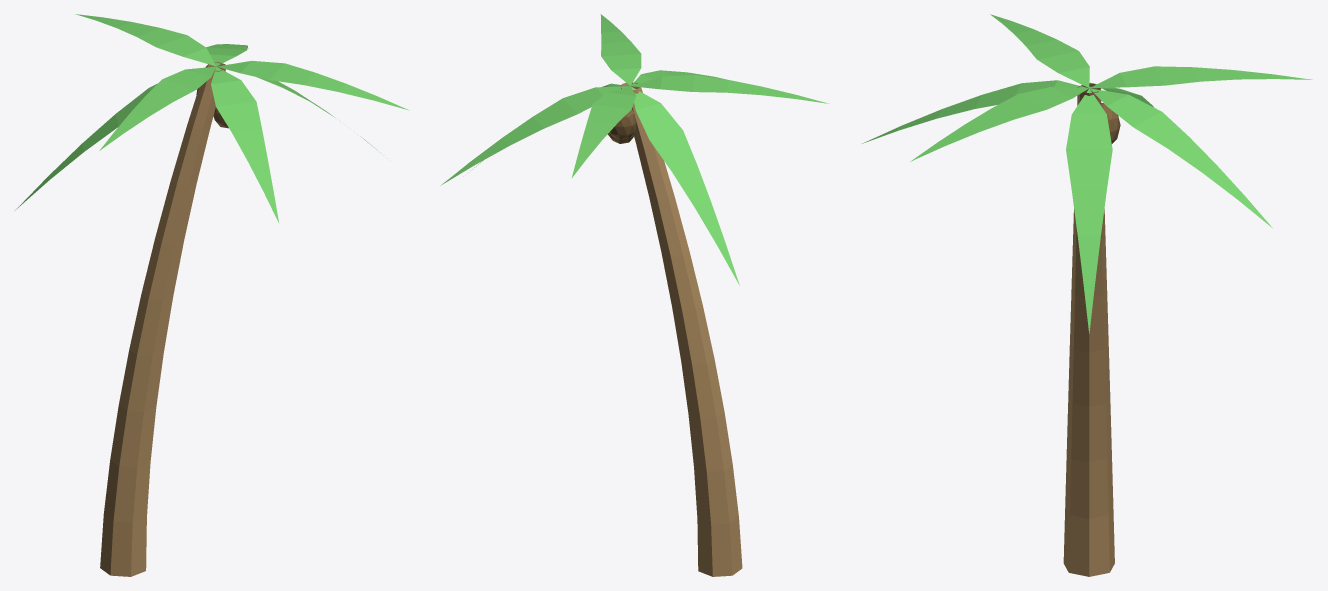
Rendered from CoconutTree.fbx.
The picture shows the model from 3 angles, left to right: view 1: azimuth 30°, elevation 25°; view 2: azimuth 150°, elevation 25°; view 3: azimuth 270°, elevation 25°; orthographic projection. The views are drawn at different scales.
Visible parts, largest first — view 1: CoconutTree_TrunkMat, CoconutTree_LeafMat; view 2: CoconutTree_TrunkMat, CoconutTree_LeafMat, CoconutTree_CoconutMat; view 3: CoconutTree_LeafMat, CoconutTree_TrunkMat.
Boxes of the visible parts, box(x1,y1,x2,y2) form: CoconutTree_TrunkMat: box(100, 62, 225, 576); CoconutTree_LeafMat: box(15, 14, 408, 223); CoconutTree_TrunkMat: box(621, 82, 742, 576); CoconutTree_LeafMat: box(440, 14, 829, 285); CoconutTree_CoconutMat: box(607, 109, 635, 143); CoconutTree_LeafMat: box(862, 14, 1312, 333); CoconutTree_TrunkMat: box(1063, 83, 1114, 576).
Bounding box in the file's own units: 666 × 909 × 703.
